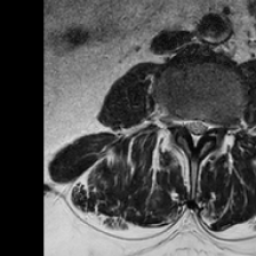CCS_normal: (191, 110, 199, 154)
LFS_severe_stenosis: (209, 110, 220, 137)
LLS_normal: (199, 111, 209, 142)
RFS_normal: (171, 105, 182, 133)
RLS_normal: (182, 111, 191, 140)
